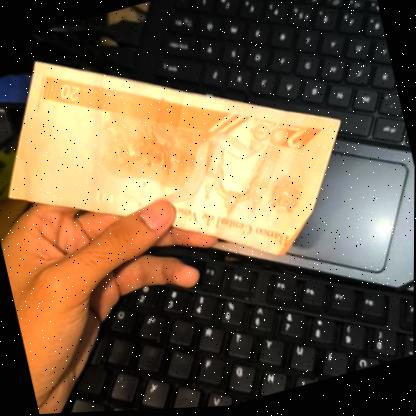twenty-back-vef: (0, 0, 372, 320)
